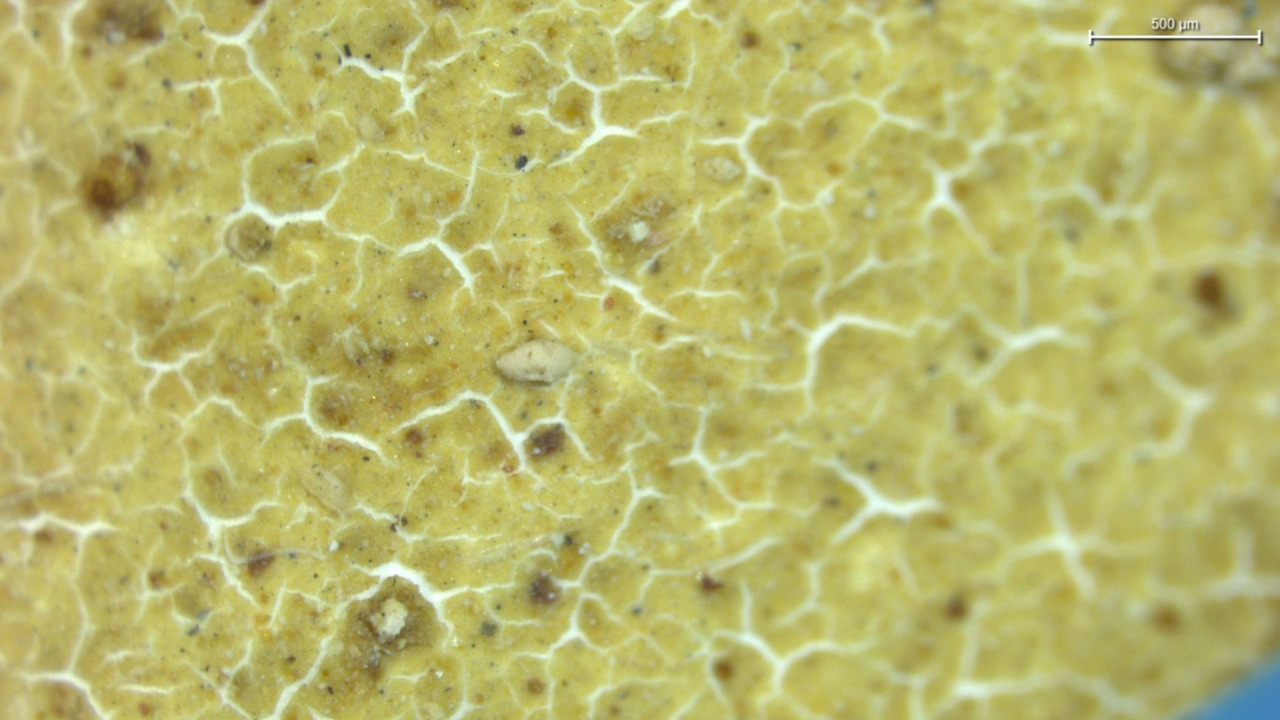microplastic_fragment: (495, 339, 578, 383)
